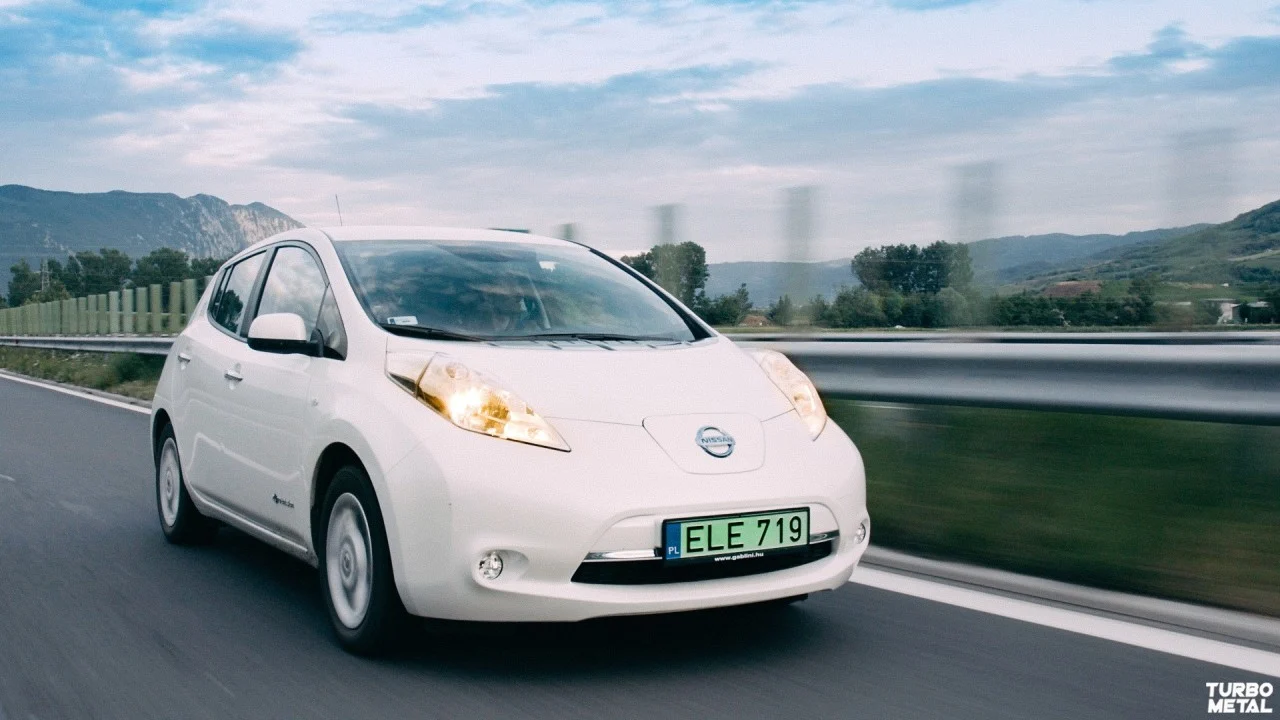tablica: (663, 511, 809, 558)
